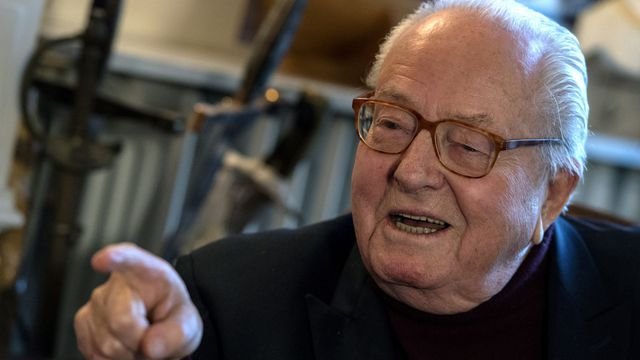without_mask: (346, 21, 574, 316)
